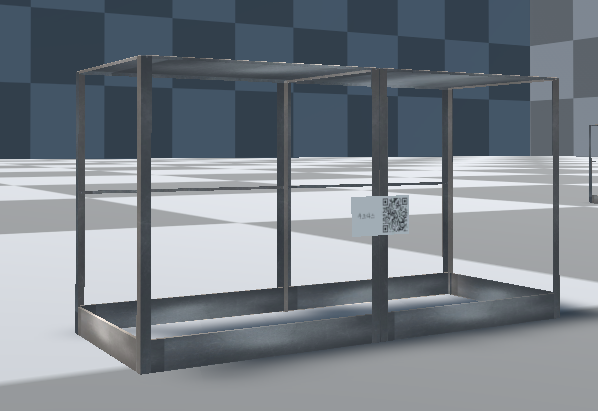Rack: (73, 51, 562, 380)
